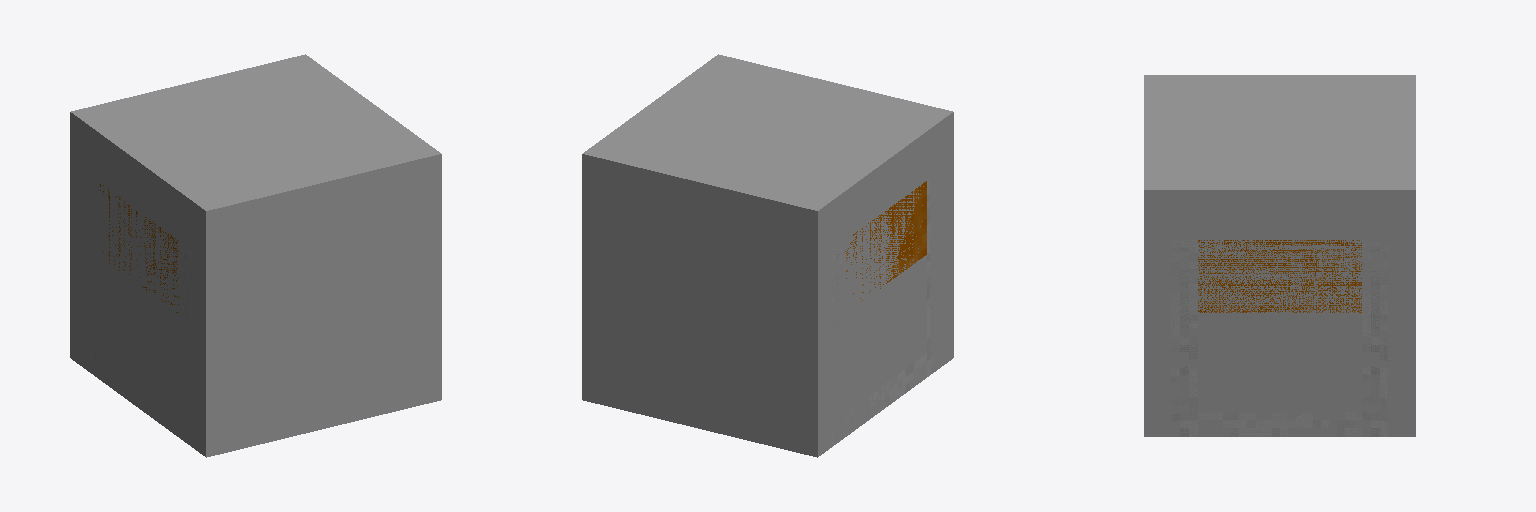
The picture shows the model from 3 angles: view 1: azimuth 30°, elevation 25°; view 2: azimuth 150°, elevation 25°; view 3: azimuth 270°, elevation 25°; orthographic projection.
Parts seen in each view (by area): view 1: Minecraft_Block_Cube, main; view 2: Minecraft_Block_Cube, main; view 3: Minecraft_Block_Cube, main.
Part boxes in pixels (x1,y1,x2,y2): Minecraft_Block_Cube: (70,54,441,457); main: (86,184,192,445); Minecraft_Block_Cube: (582,54,953,457); main: (831,180,934,446); Minecraft_Block_Cube: (1144,75,1415,436); main: (1171,240,1388,436).
Size of the model in its own units: 1 by 1 by 1.
Materials: 2 (1 with a texture image).